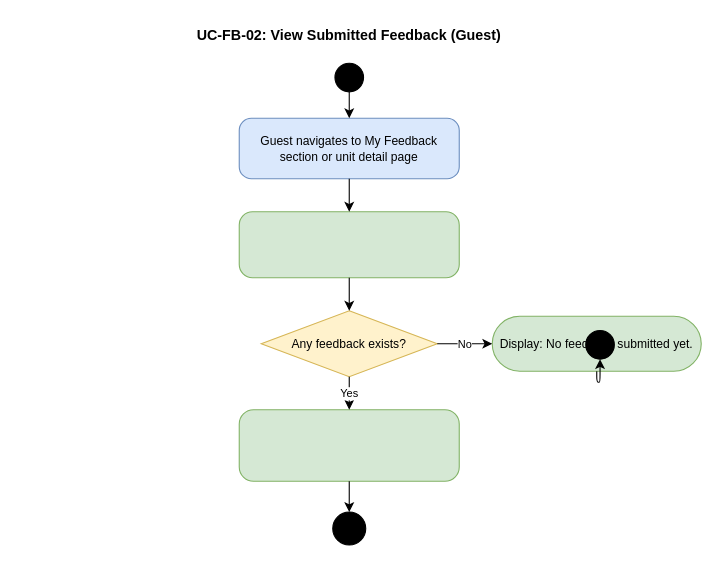
This 721x564 diagram has some shape labels left out. Here are the shapes that lost their labels. From the top down, the centre of each, then its label:
At point (348, 244): "Retrieve feedback records submitted by guest (or all reviews for a unit)".
At point (348, 445): "Display feedback list: star rating, comment, date, admin response (if any)".
